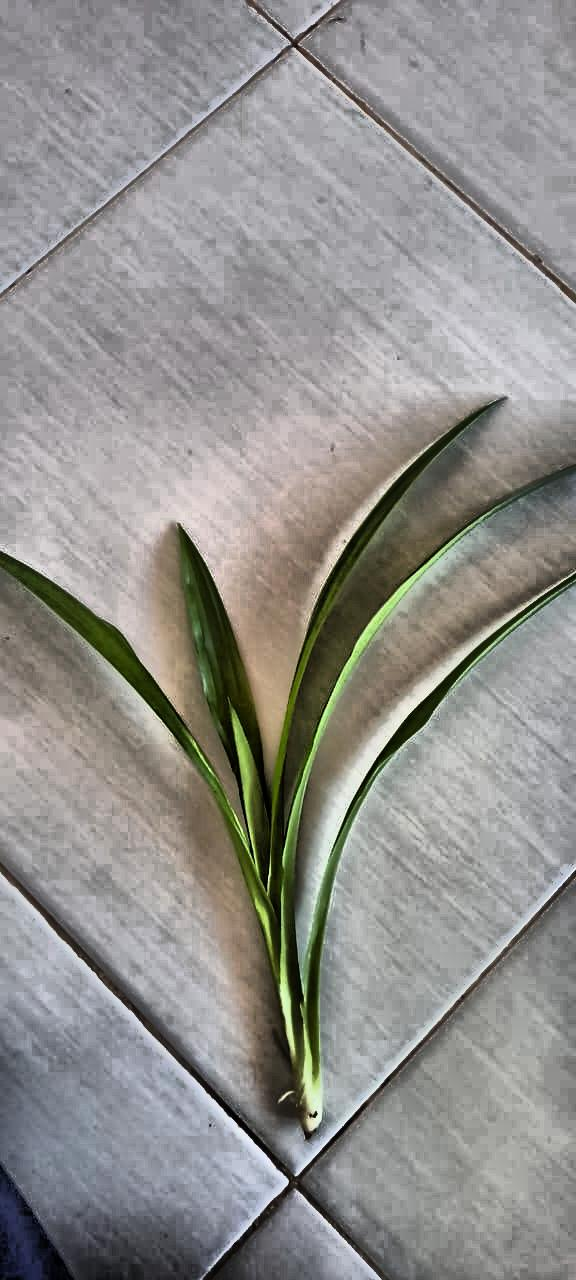daun pandan: (0, 405, 575, 1137)
